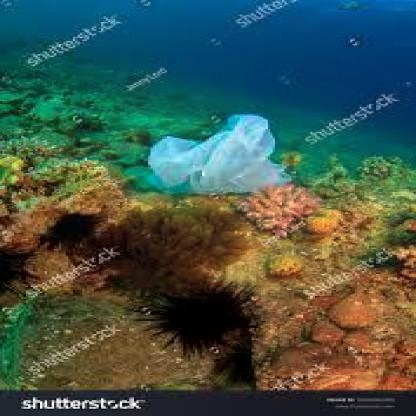pbag: (143, 113, 294, 196)
